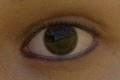eye: (44, 24, 78, 56)
